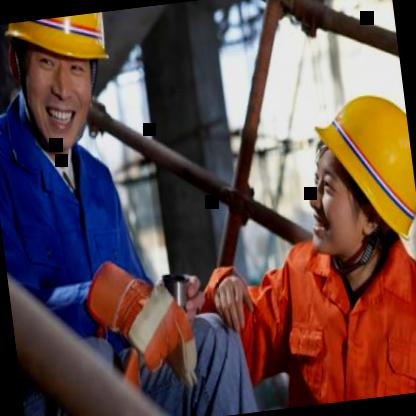helmet: (285, 65, 416, 297), (0, 11, 122, 164)
